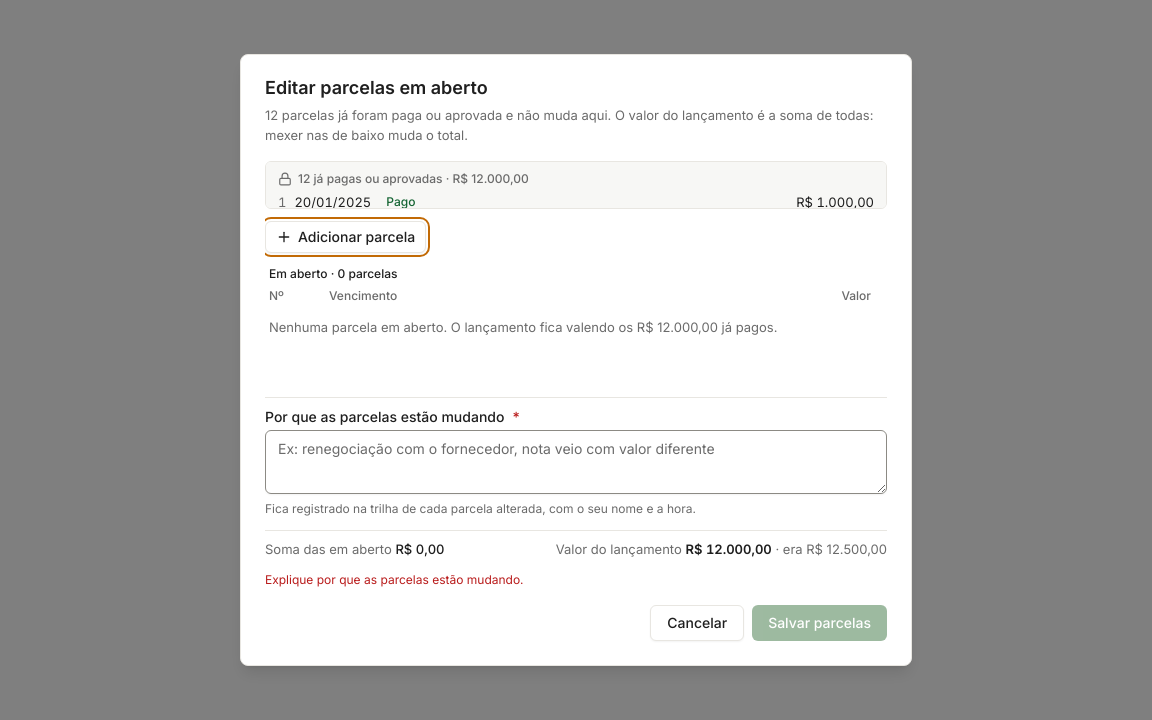
DefinirParcelasDialog: dá para ver e mexer nas parcelas em aberto › sem parcela nenhuma em aberto, o botão ainda cria a primeira
What coordinates should you click on to do the following:
click the button "Adicionar parcela"
I would click on:
 (346, 237)
Its box is top-left (265, 221), bottom-right (426, 253).
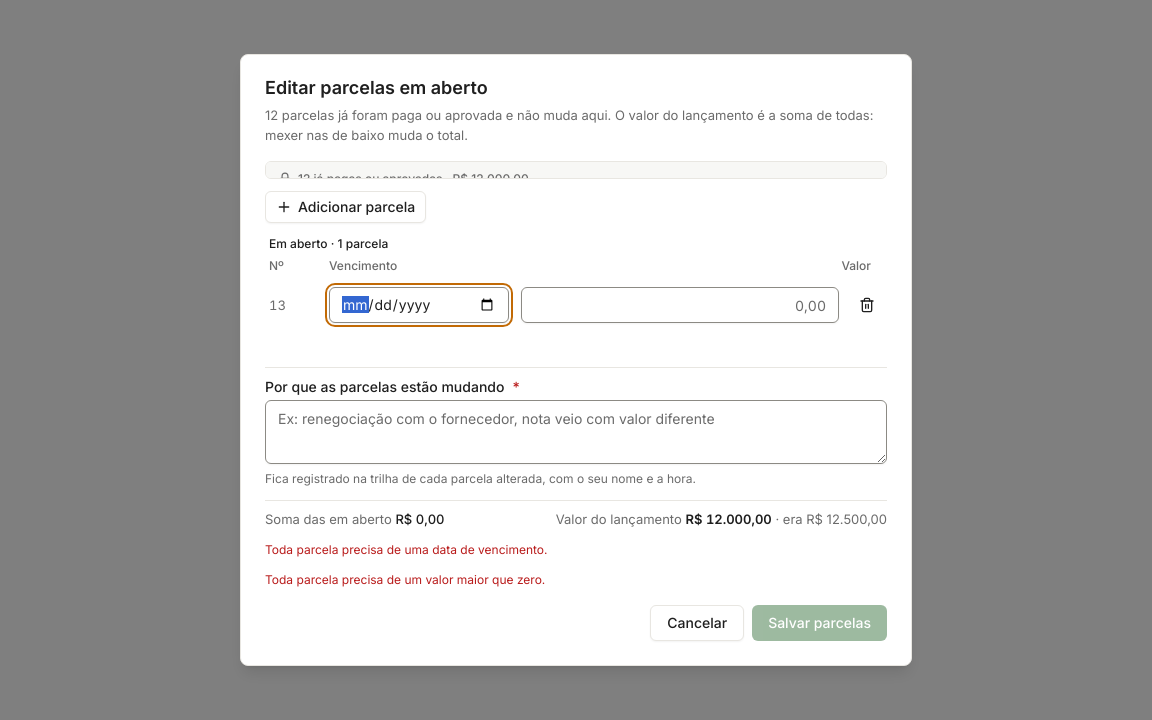
Check: the number of date fields named "Vencimento da parcela" is 1, box top-left (329, 287), bottom-right (509, 323)
